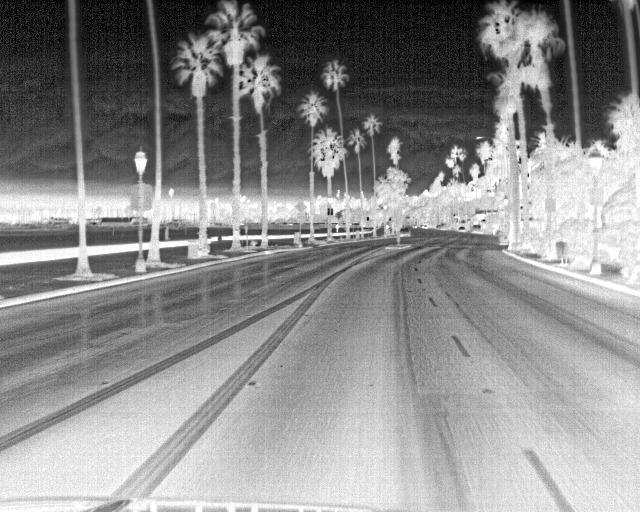car: (397, 226, 411, 238), (469, 223, 482, 234), (456, 225, 467, 233)
